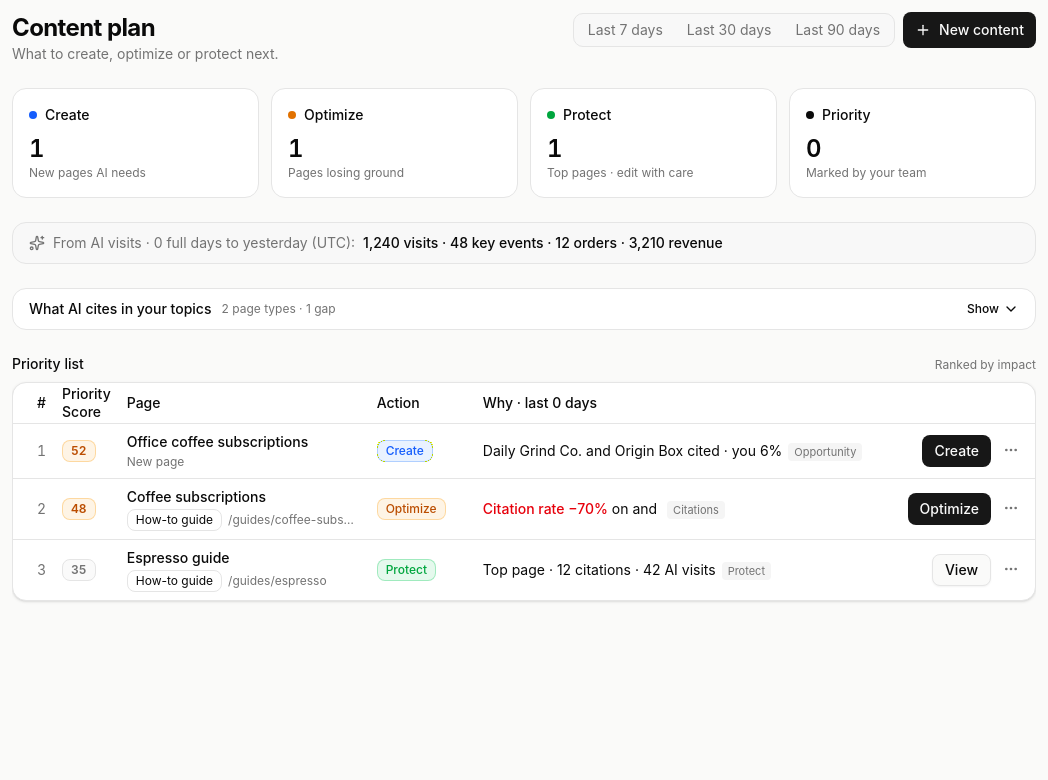
it: the Content plan › opens the mix closed, with its count, and opens it on a click
The image size is (1048, 780).
Click the button "What AI cites in your topics 2 page types · 1 gap Show": (120, 308) [13, 289, 1035, 329]
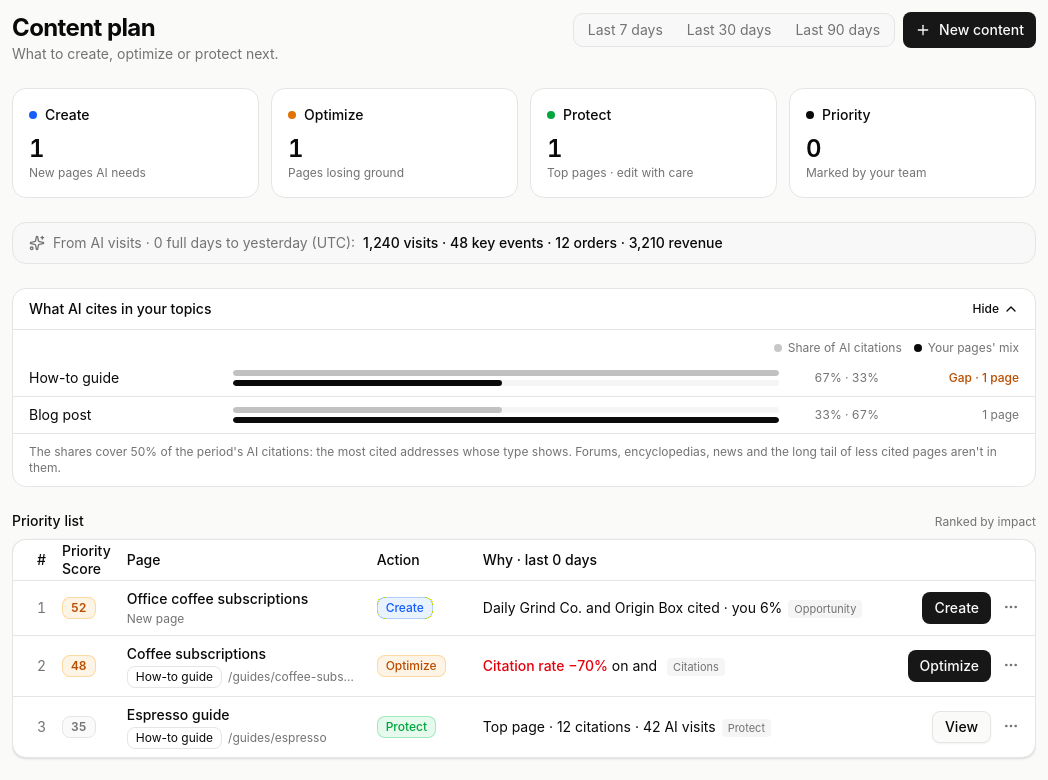
Expected: the button "What AI cites in your topics Hide" is expanded, [13, 289, 1035, 329]
Expected: the button "What AI cites in your topics Hide" is shown, [13, 289, 1035, 329]
Expected: the text "2 page types · 1 gap" is gone
